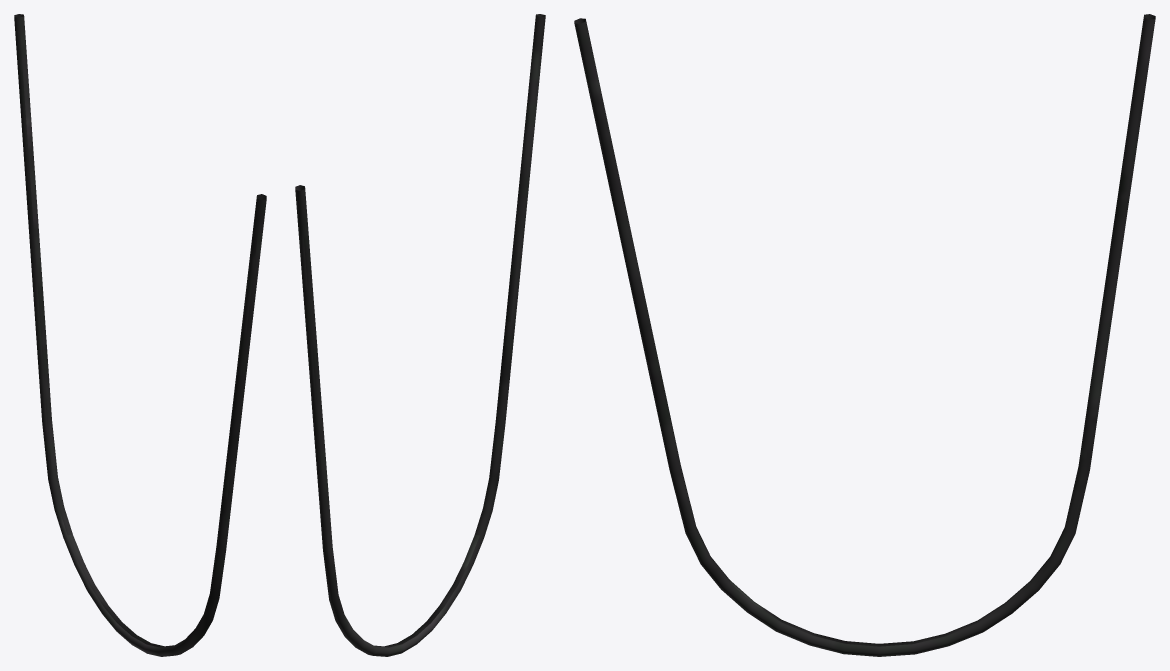
File: electrical_hanging_long2.dae
3 views of the same model, side by side, from view 1: azimuth 30°, elevation 25°; view 2: azimuth 150°, elevation 25°; view 3: azimuth 270°, elevation 25° (orthographic). The views are drawn at different scales.
Visible parts, largest first — view 1: straight; view 2: straight; view 3: straight.
Boxes of the visible parts, x1,y1,x2,y2 form: straight: (14, 14, 266, 656); straight: (295, 14, 545, 656); straight: (574, 14, 1155, 656).
Bounding box in the file's own units: 0.0169 × 0.8912 × 0.7341.
